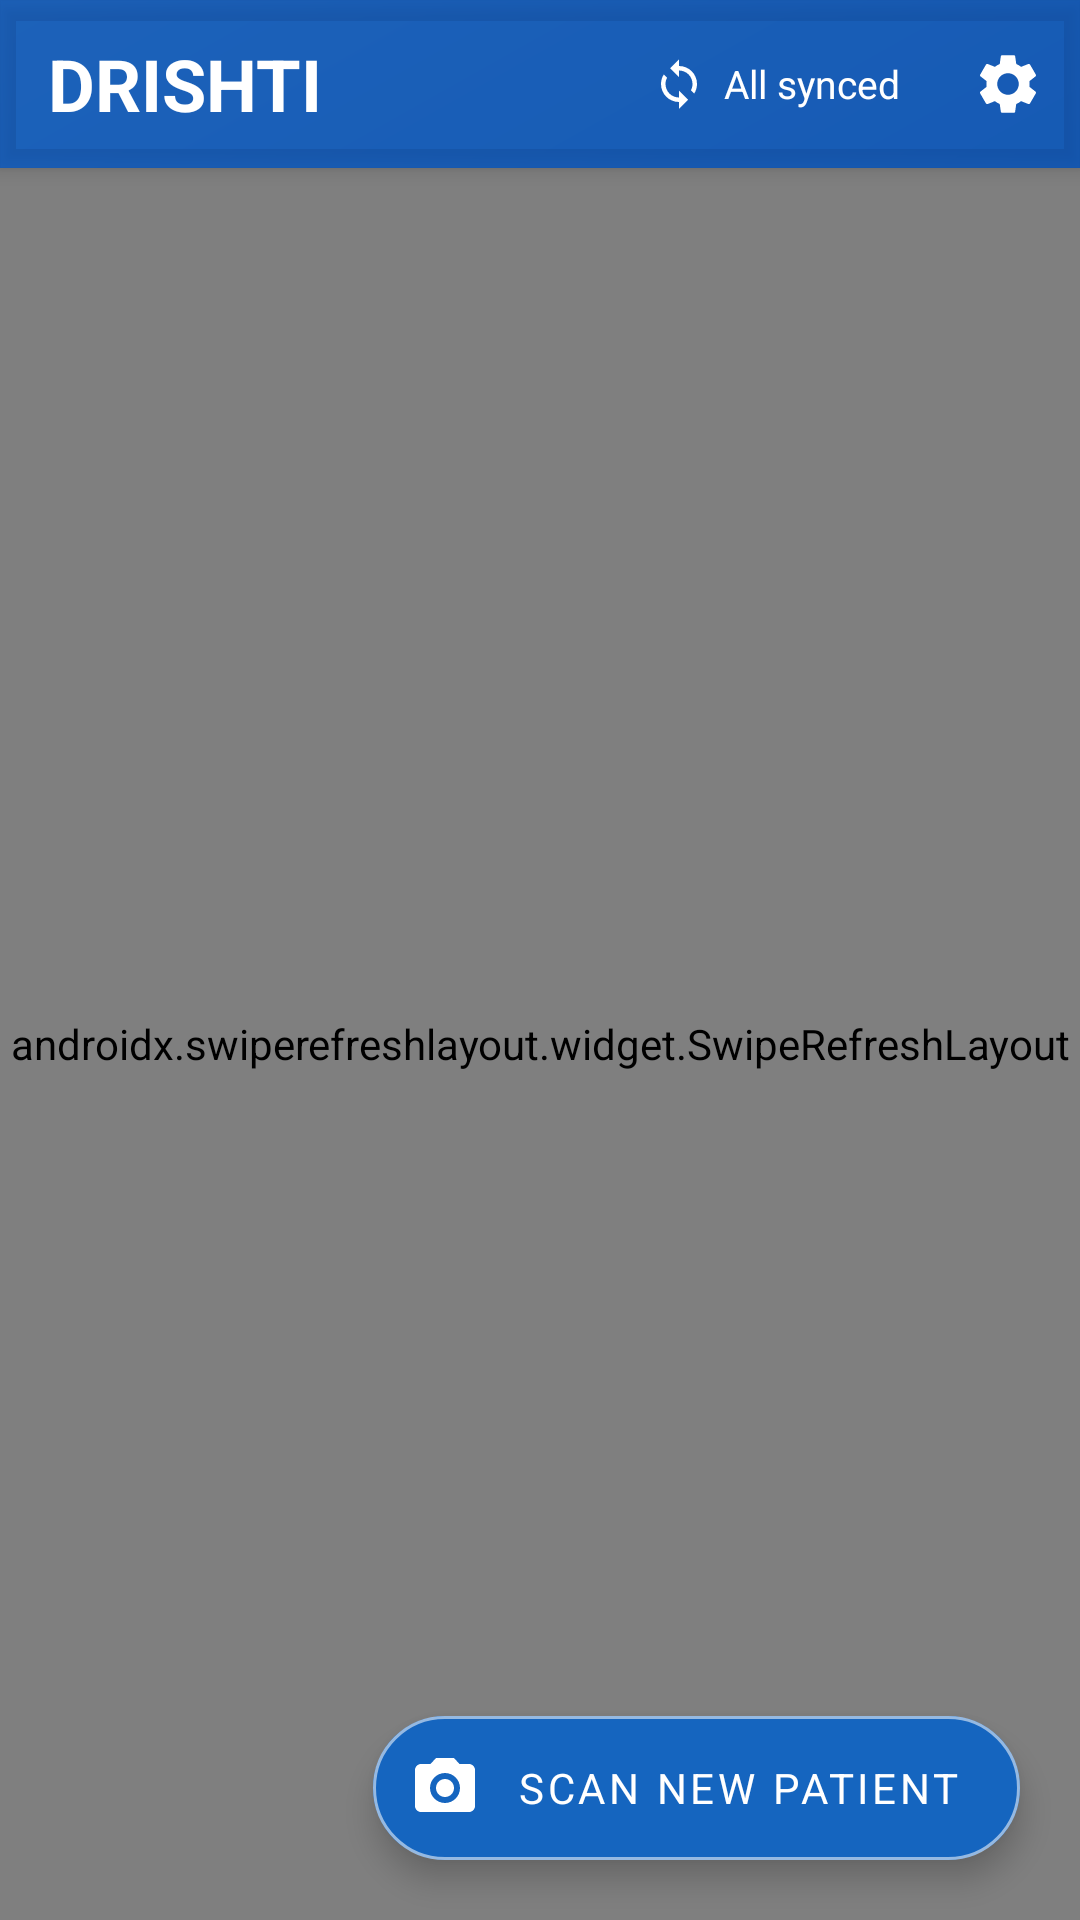

Named icons in this screenshot (1080×1920) and their centers, (x,y):
Settings: (1008,84)
